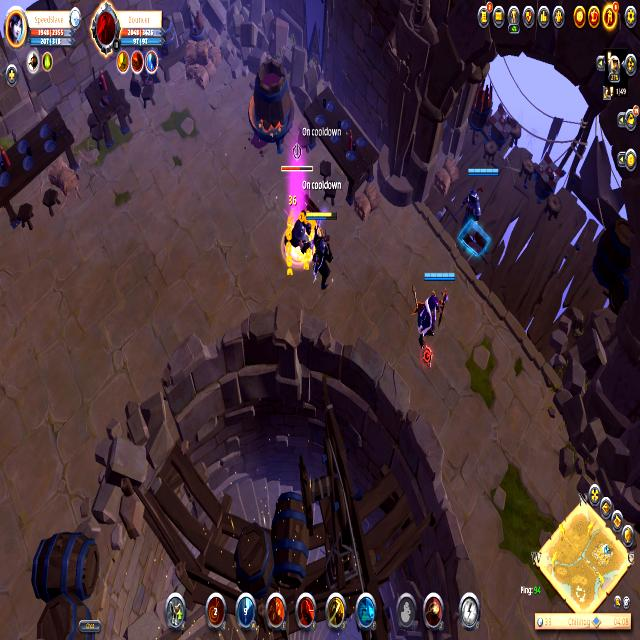ore: (280, 162, 315, 265)
red: (455, 160, 502, 260), (303, 208, 338, 292), (420, 265, 458, 336)
